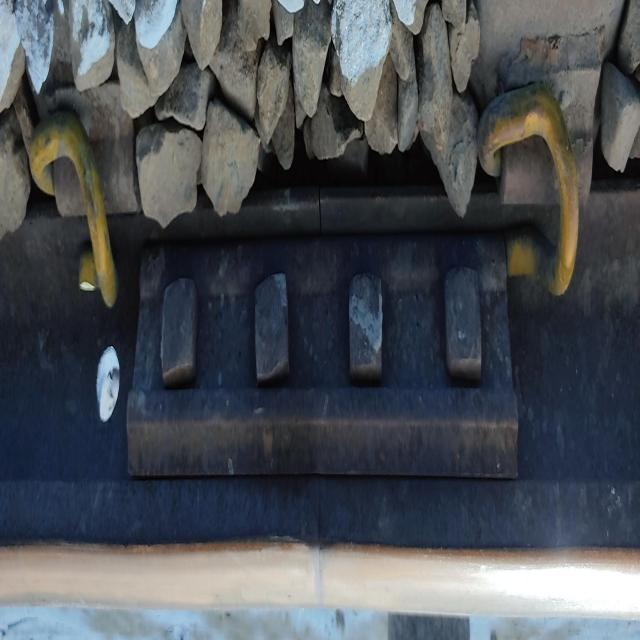Good Fasteners: (478, 82, 579, 295), (28, 111, 118, 308)
Good Joint: (127, 235, 518, 478)
